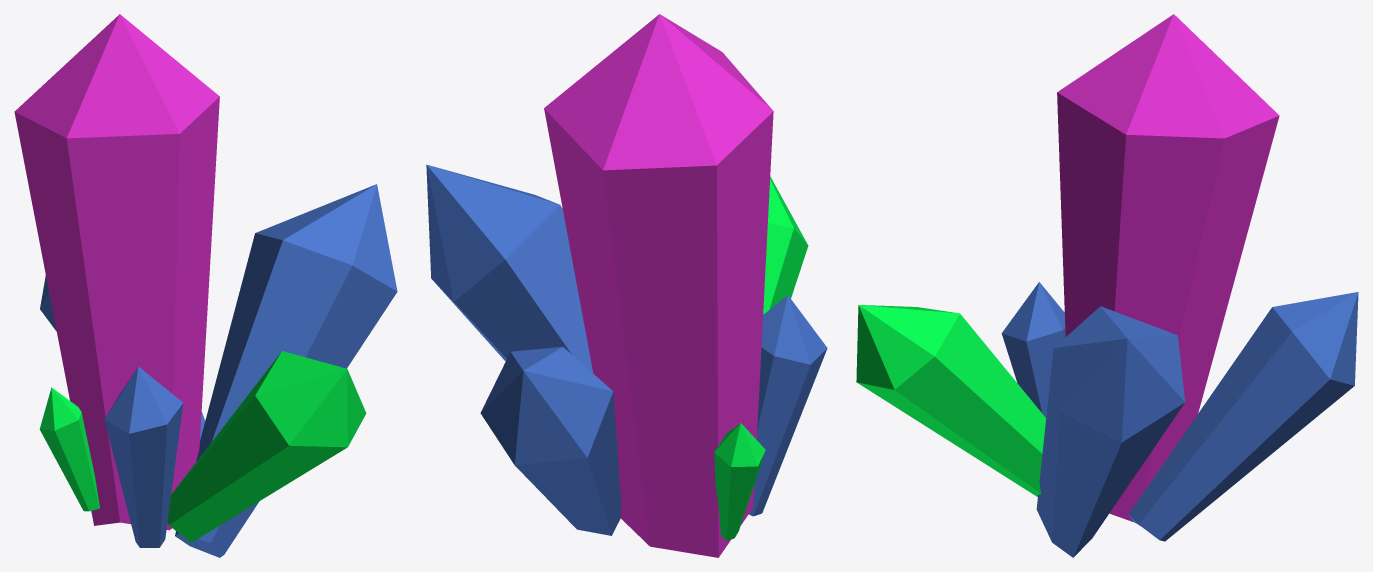
Rendered from CrystalItem.fbx.
3 renders of one model, left to right at view 1: azimuth 30°, elevation 25°; view 2: azimuth 150°, elevation 25°; view 3: azimuth 270°, elevation 25°, orthographic. The views are drawn at different scales.
Visible parts, largest first — view 1: Crystals; view 2: Crystals; view 3: Crystals.
Boxes of the visible parts, bbox=[...] form: Crystals: bbox=[14, 14, 397, 557]; Crystals: bbox=[426, 14, 827, 557]; Crystals: bbox=[856, 14, 1358, 557].
Bounding box in the file's own units: 39.55 × 61.62 × 53.95.
